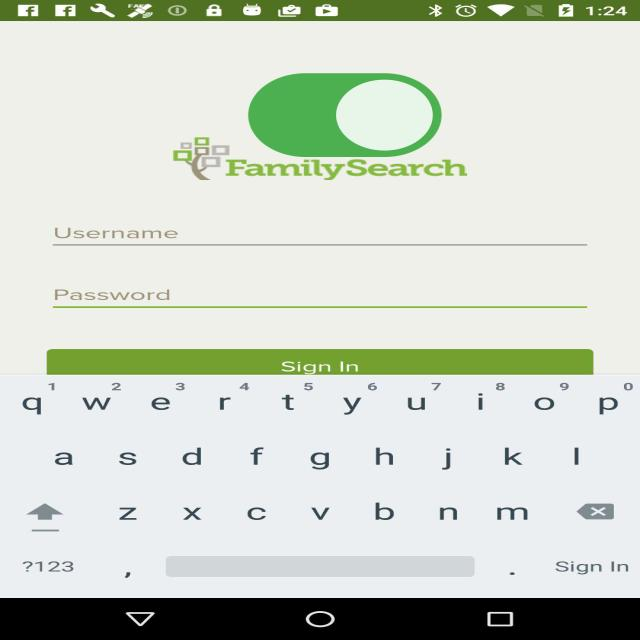social proof: (240, 41, 450, 196)
